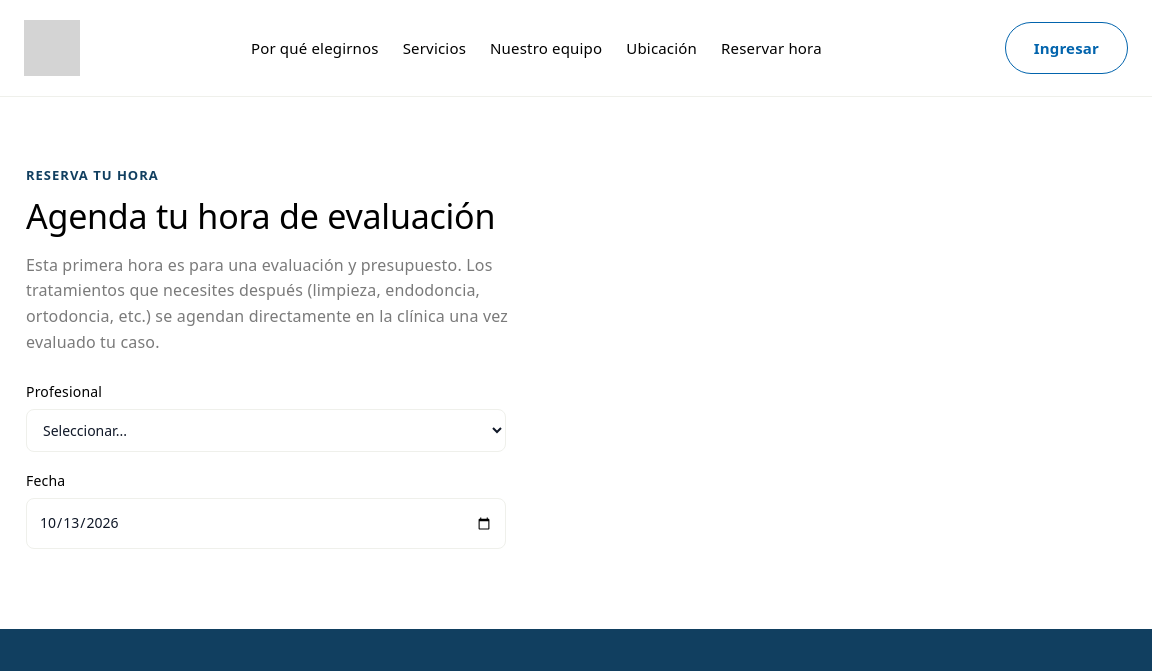
Scenario: ReservarPage › muestra los horarios disponibles al elegir profesional
The image size is (1152, 671).
Select "Dra. Soto — General" in the dropdown labelled "Profesional": (266, 431) x1=26 y1=409 x2=506 y2=452
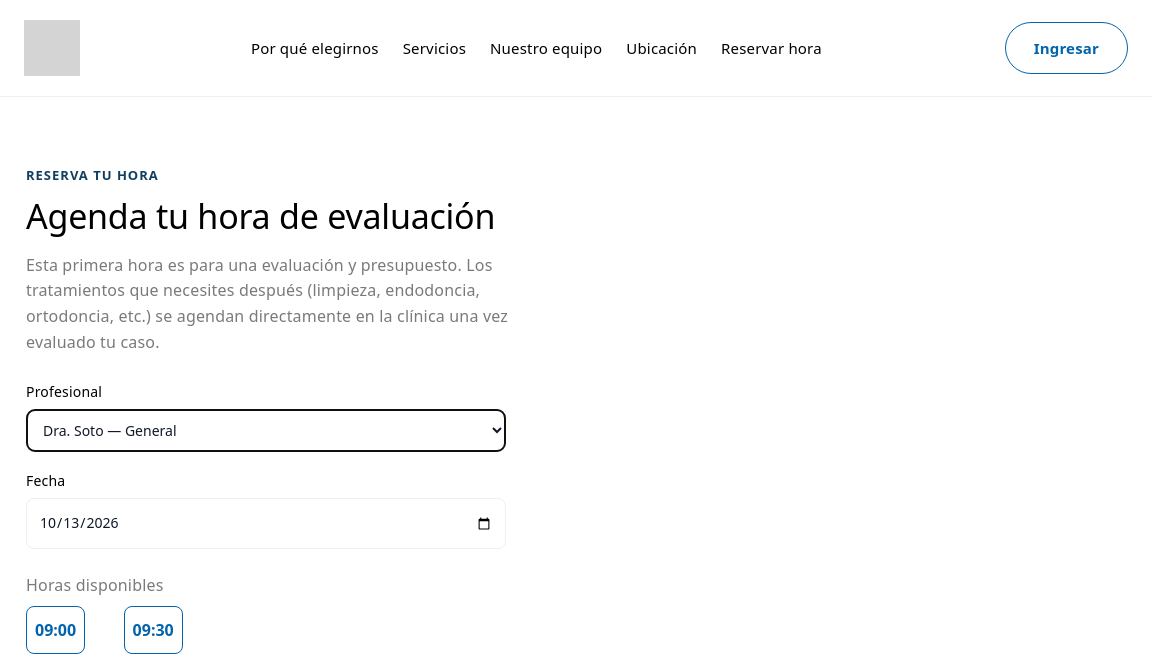
Expected: the button "09:00" is shown, x1=26 y1=606 x2=85 y2=654
Expected: the button "09:30" is shown, x1=124 y1=606 x2=183 y2=654
